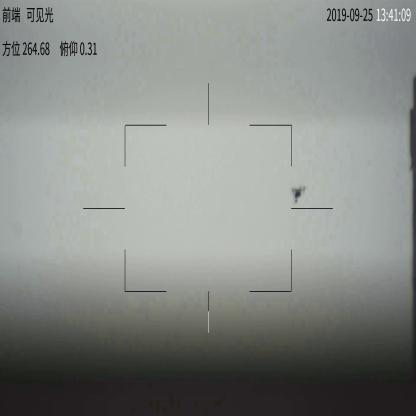uav: (290, 184, 309, 208)
